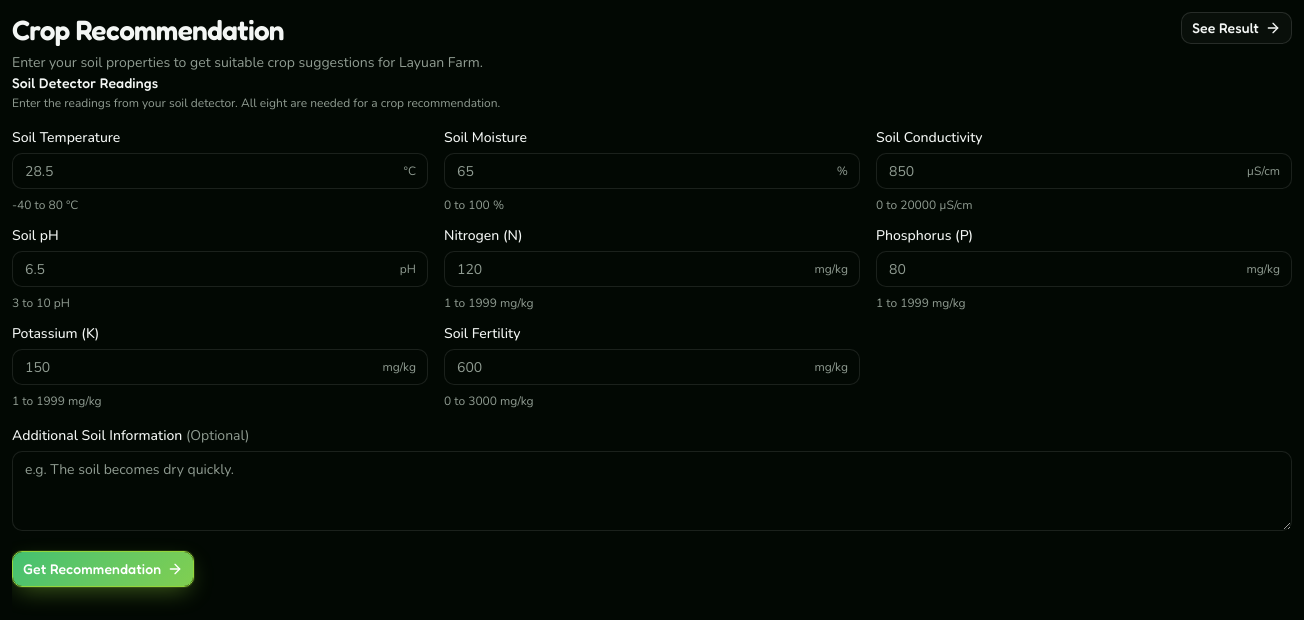
Test: SoilRecommendationForm retry › offers to analyze an assessment that was saved without analysis
Click the button "See Result": [1237, 28] box [1181, 12, 1292, 44]
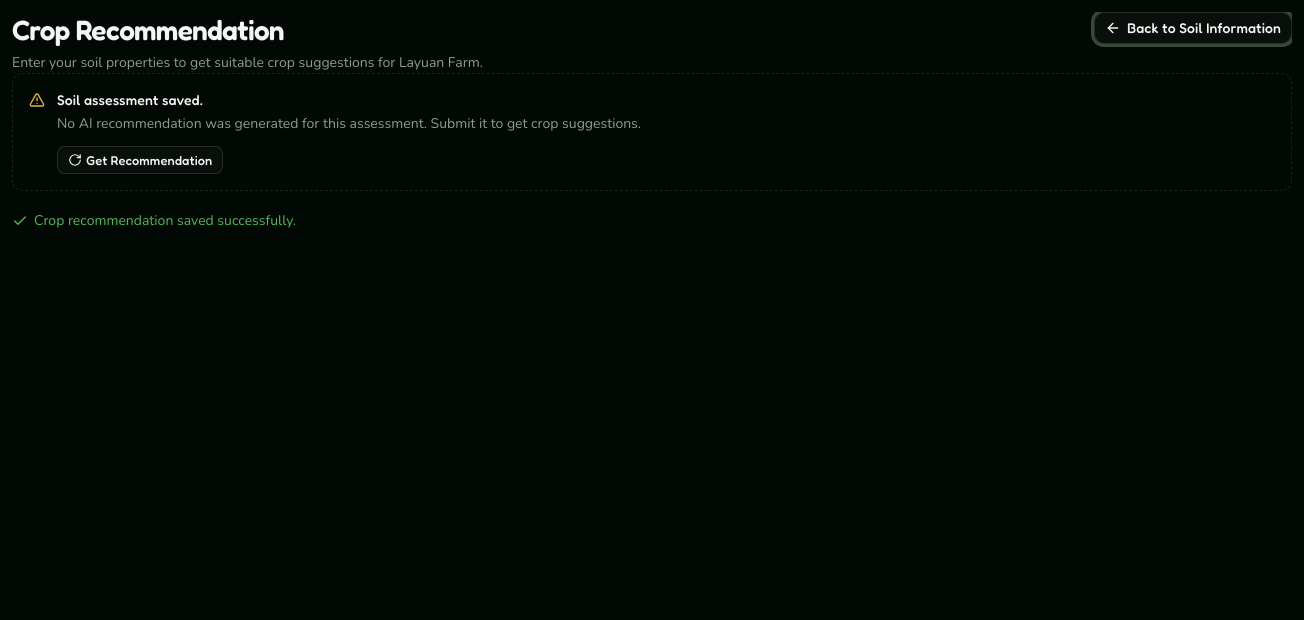
Expected: the button "Get Recommendation" is enabled, [57, 146, 223, 174]
Expected: the text "No AI recommendation was generated" is shown, [57, 114, 641, 133]
